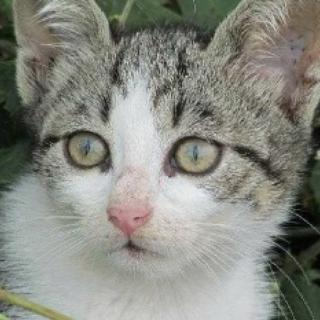cat: (7, 0, 320, 281)
nose: (102, 174, 163, 237)
